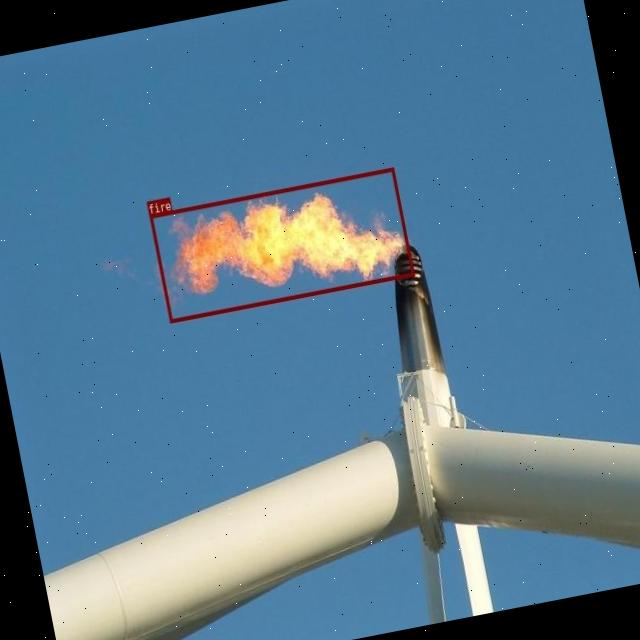fire: (149, 168, 414, 322)
